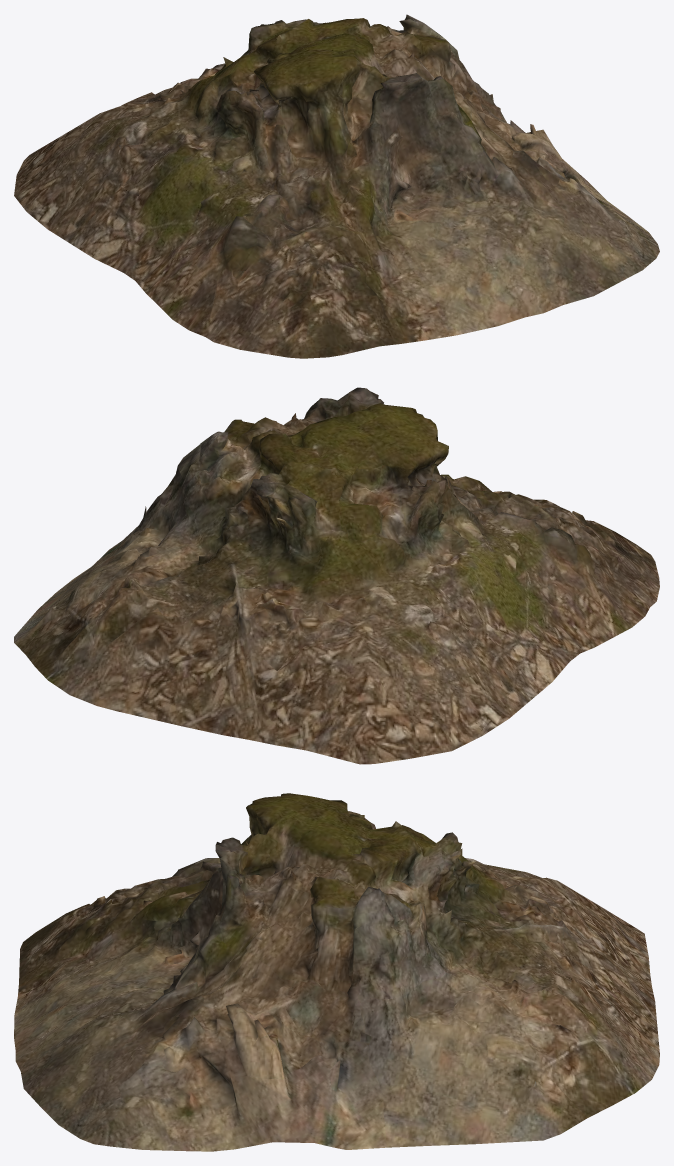
File: tree_stump_01.glb
3 renders of one model, top to bottom at view 1: azimuth 30°, elevation 25°; view 2: azimuth 150°, elevation 25°; view 3: azimuth 270°, elevation 25°, orthographic. The views are drawn at different scales.
Visible parts, largest first — view 1: tree_stump_01; view 2: tree_stump_01; view 3: tree_stump_01.
Part boxes in pixels (bbox=[...]): tree_stump_01: bbox=[14, 14, 659, 358]; tree_stump_01: bbox=[14, 387, 659, 764]; tree_stump_01: bbox=[14, 793, 659, 1151].
Size of the model in its own units: 1.43 by 0.571 by 1.59.
1 material, 1 textured.
